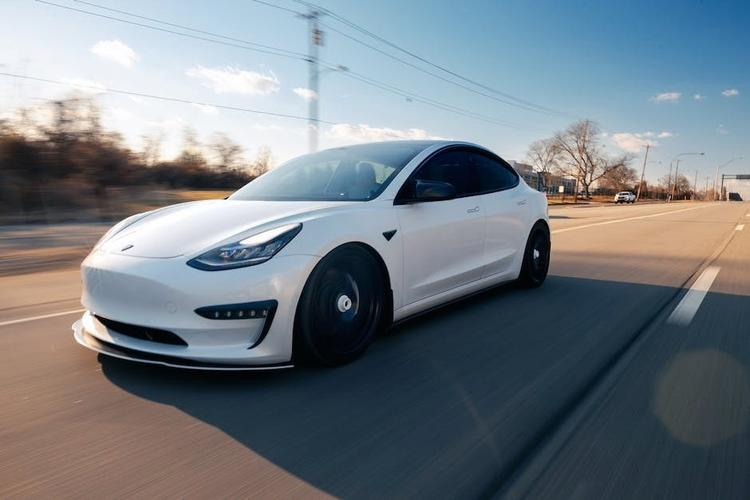汽车: (73, 133, 562, 381)
